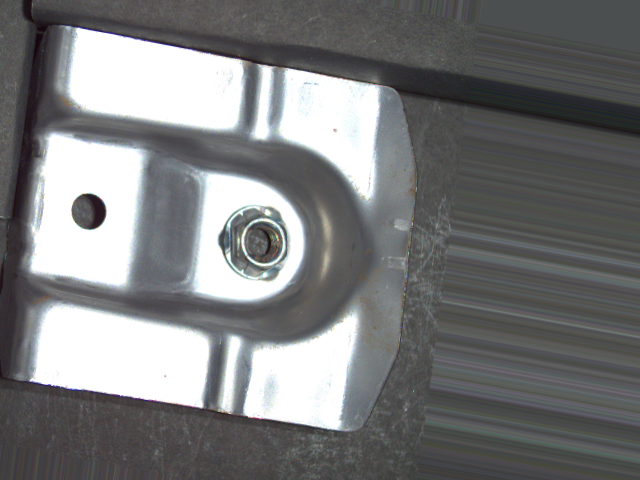good: (218, 201, 293, 286)
